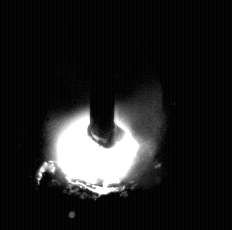arame: (91, 0, 116, 149)
poca: (46, 0, 159, 230)
